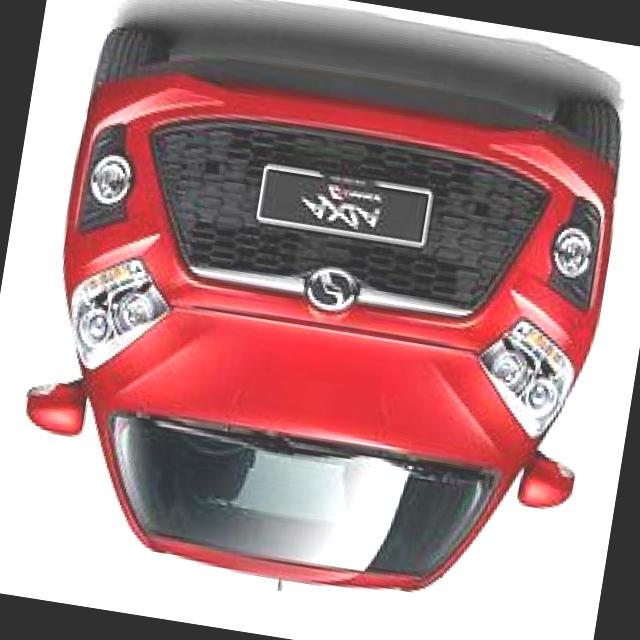PeroduaAxia: (1, 14, 638, 636)
